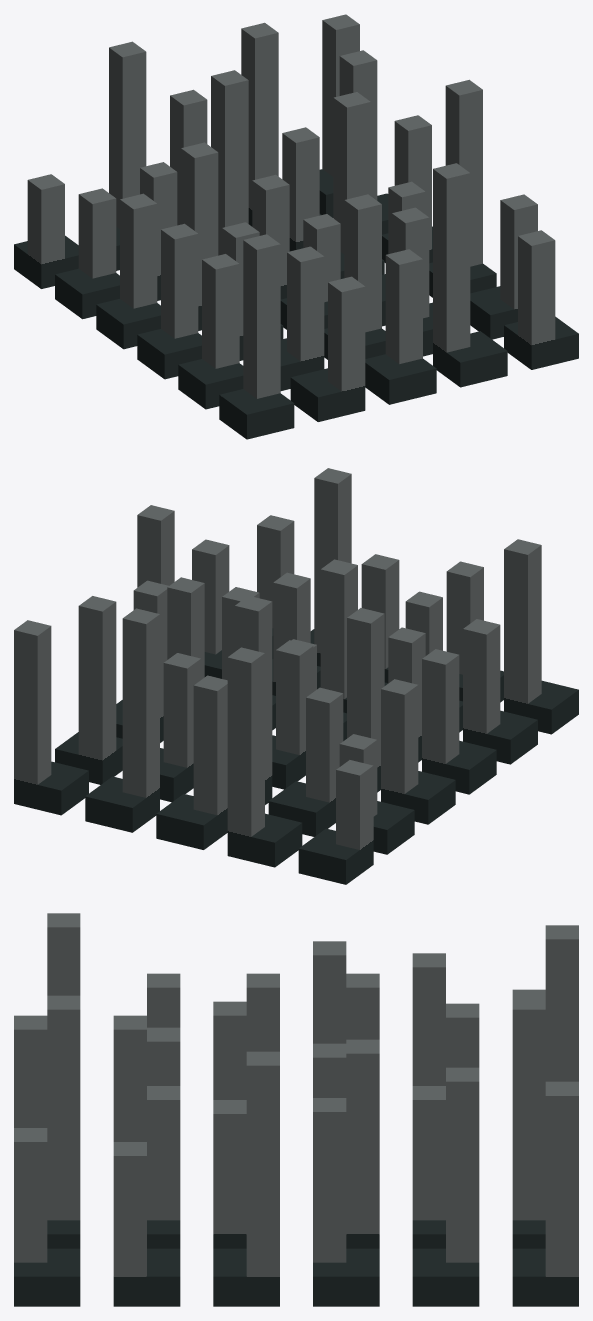
Rendered from spikes.fbx.
The picture shows the model from 3 angles, top to bottom: view 1: azimuth 30°, elevation 25°; view 2: azimuth 150°, elevation 25°; view 3: azimuth 270°, elevation 25°; orthographic projection. The views are drawn at different scales.
Parts seen in each view (by area): view 1: spikes.001; view 2: spikes.001; view 3: spikes.001.
Part boxes in pixels (<box>): spikes.001: <box>14,14,578,439</box>; spikes.001: <box>14,468,578,884</box>; spikes.001: <box>14,913,578,1306</box>.
Bounding box in the file's own units: 1.4 × 0.8 × 1.7.
Materials: 1 (1 with a texture image).
